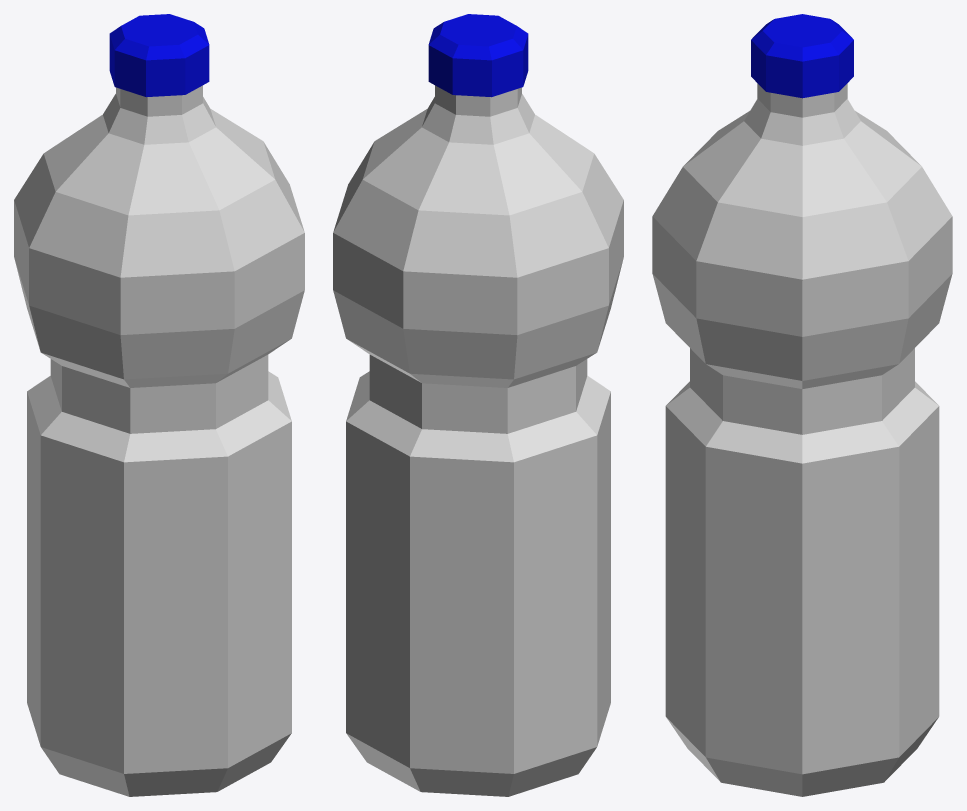
The model's file is Water.fbx.
3 renders of one model, left to right at view 1: azimuth 30°, elevation 25°; view 2: azimuth 150°, elevation 25°; view 3: azimuth 270°, elevation 25°, orthographic.
Visible parts, largest first — view 1: Cylinder; view 2: Cylinder; view 3: Cylinder.
Boxes of the visible parts, bbox=[...] form: Cylinder: bbox=[14, 14, 304, 796]; Cylinder: bbox=[333, 14, 623, 796]; Cylinder: bbox=[652, 14, 952, 796].
Bounding box in the file's own units: 219 × 579 × 219.
